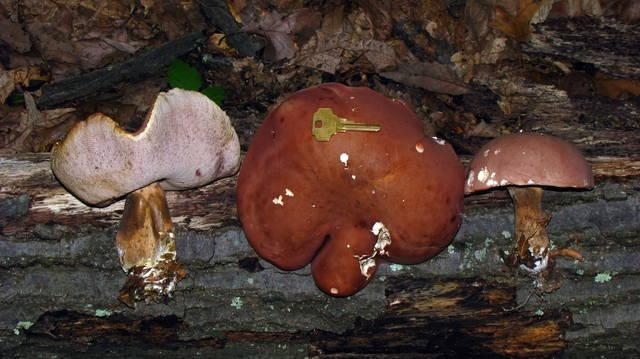Non-edible Mushroom: (235, 80, 466, 298), (48, 85, 241, 307), (463, 130, 595, 276)
